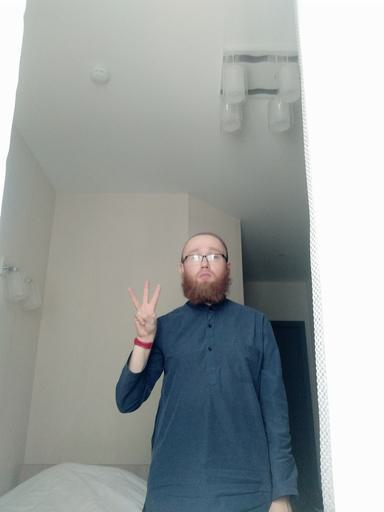three: (126, 279, 163, 339)
